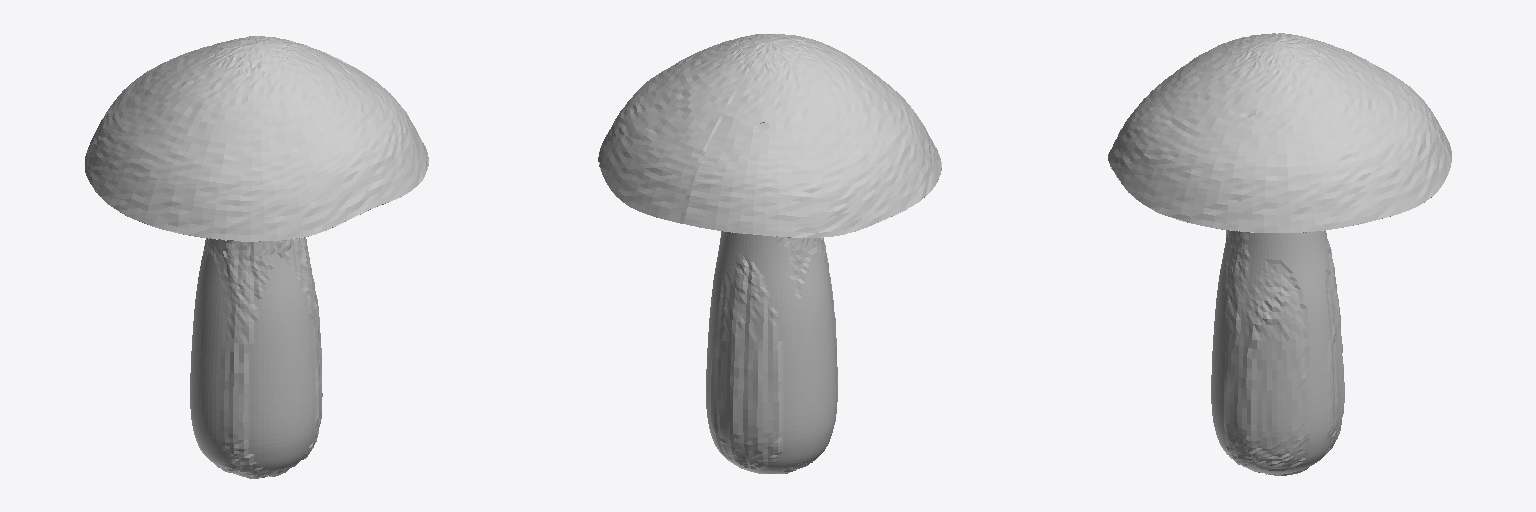
Rendered from boletus_edulis.obj.
The picture shows the model from 3 angles: view 1: azimuth 30°, elevation 25°; view 2: azimuth 150°, elevation 25°; view 3: azimuth 270°, elevation 25°; orthographic projection.
Parts seen in each view (by area): view 1: Cylinder; view 2: Cylinder; view 3: Cylinder.
Part boxes in pixels (x1,y1,x2,y2): Cylinder: (85, 36, 428, 478); Cylinder: (598, 34, 941, 473); Cylinder: (1108, 33, 1451, 475).
Size of the model in its own units: 4.19 by 5.74 by 4.2.